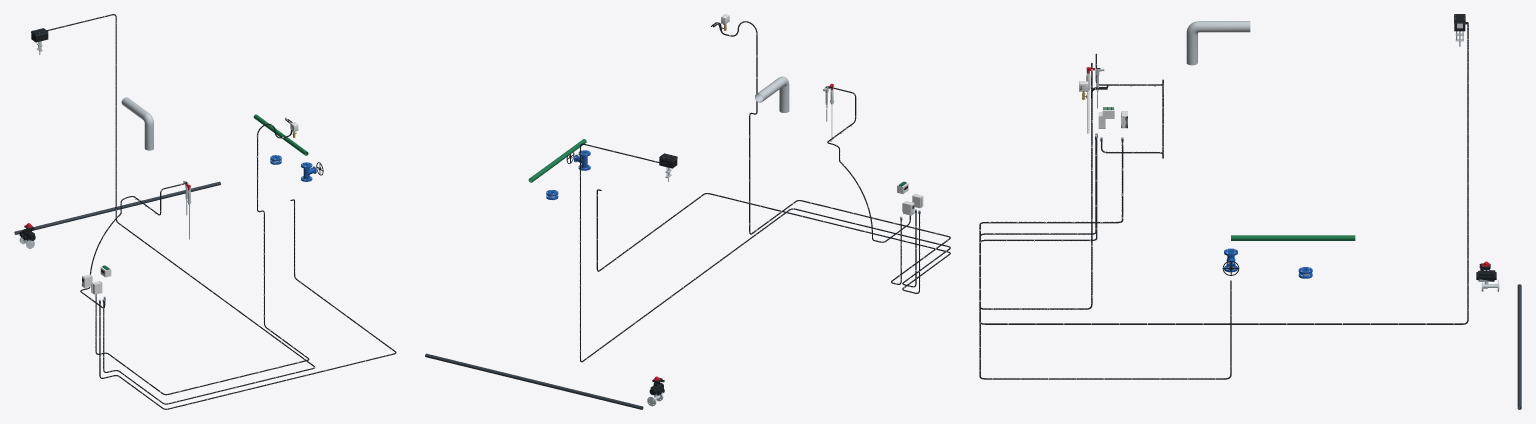
3 views of the same model, side by side, from view 1: azimuth 30°, elevation 25°; view 2: azimuth 150°, elevation 25°; view 3: azimuth 270°, elevation 25° (orthographic). The views are drawn at different scales.
Parts seen in each view (by area): view 1: mod_eco_drive_cable / black, wiring_pump_1 / black, wiring_pressure_switch_3 / black, bottom_discharge / dark, steam_rise / steel, wiring_pressure_transmitter / black, wiring_low_level_2 / black; view 2: mod_eco_drive_cable / black, wiring_pump_1 / black, bottom_discharge / dark, wiring_pressure_transmitter / black, wiring_pressure_switch_3 / black, steam_rise / steel; view 3: mod_eco_drive_cable / black, wiring_pump_1 / black, steam_rise / steel, wiring_pressure_transmitter / black, wiring_pressure_switch_3 / black, pump_delivery / green, bottom_discharge / dark.
Boxes of the visible parts, box(x1,y1,x2,y2) form: mod_eco_drive_cable / black: box(47, 14, 315, 404); wiring_pump_1 / black: box(99, 199, 396, 409); wiring_pressure_switch_3 / black: box(95, 119, 309, 395); bottom_discharge / dark: box(14, 181, 220, 234); steam_rise / steel: box(121, 97, 153, 150); wiring_pressure_transmitter / black: box(95, 117, 308, 394); wiring_low_level_2 / black: box(80, 181, 187, 307); mod_eco_drive_cable / black: box(580, 143, 950, 362); wiring_pump_1 / black: box(596, 189, 950, 293); bottom_discharge / dark: box(425, 353, 643, 409); wiring_pressure_transmitter / black: box(713, 21, 950, 284); wiring_pressure_switch_3 / black: box(711, 21, 950, 284); steam_rise / steel: box(755, 76, 789, 112); mod_eco_drive_cable / black: box(979, 22, 1468, 324); wiring_pump_1 / black: box(979, 140, 1231, 379); steam_rise / steel: box(1186, 21, 1250, 65); wiring_pressure_transmitter / black: box(979, 63, 1123, 309); wiring_pressure_switch_3 / black: box(979, 63, 1123, 309); pump_delivery / green: box(1231, 235, 1355, 240); bottom_discharge / dark: box(1517, 284, 1521, 409).
Bounding box in the file's own units: 4.24 × 3.04 × 5.45.
